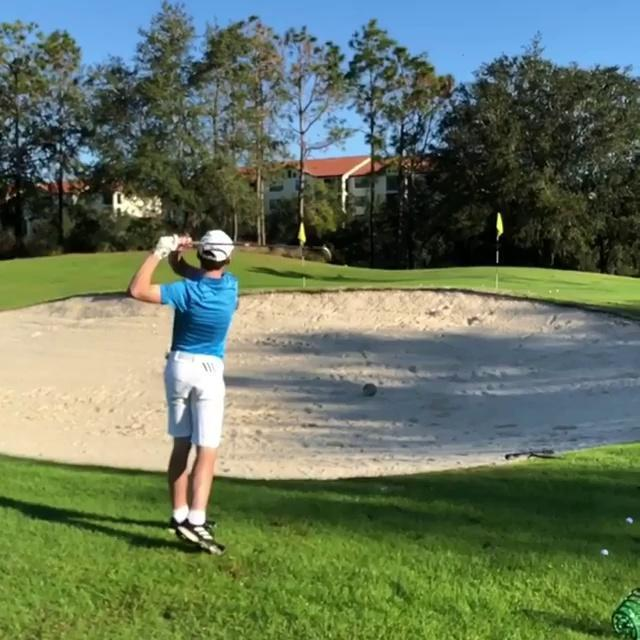ClubHandle: (154, 236, 334, 265)
ClubHead: (321, 246, 332, 261)
GolfBall: (600, 548, 610, 556), (626, 517, 634, 525)
